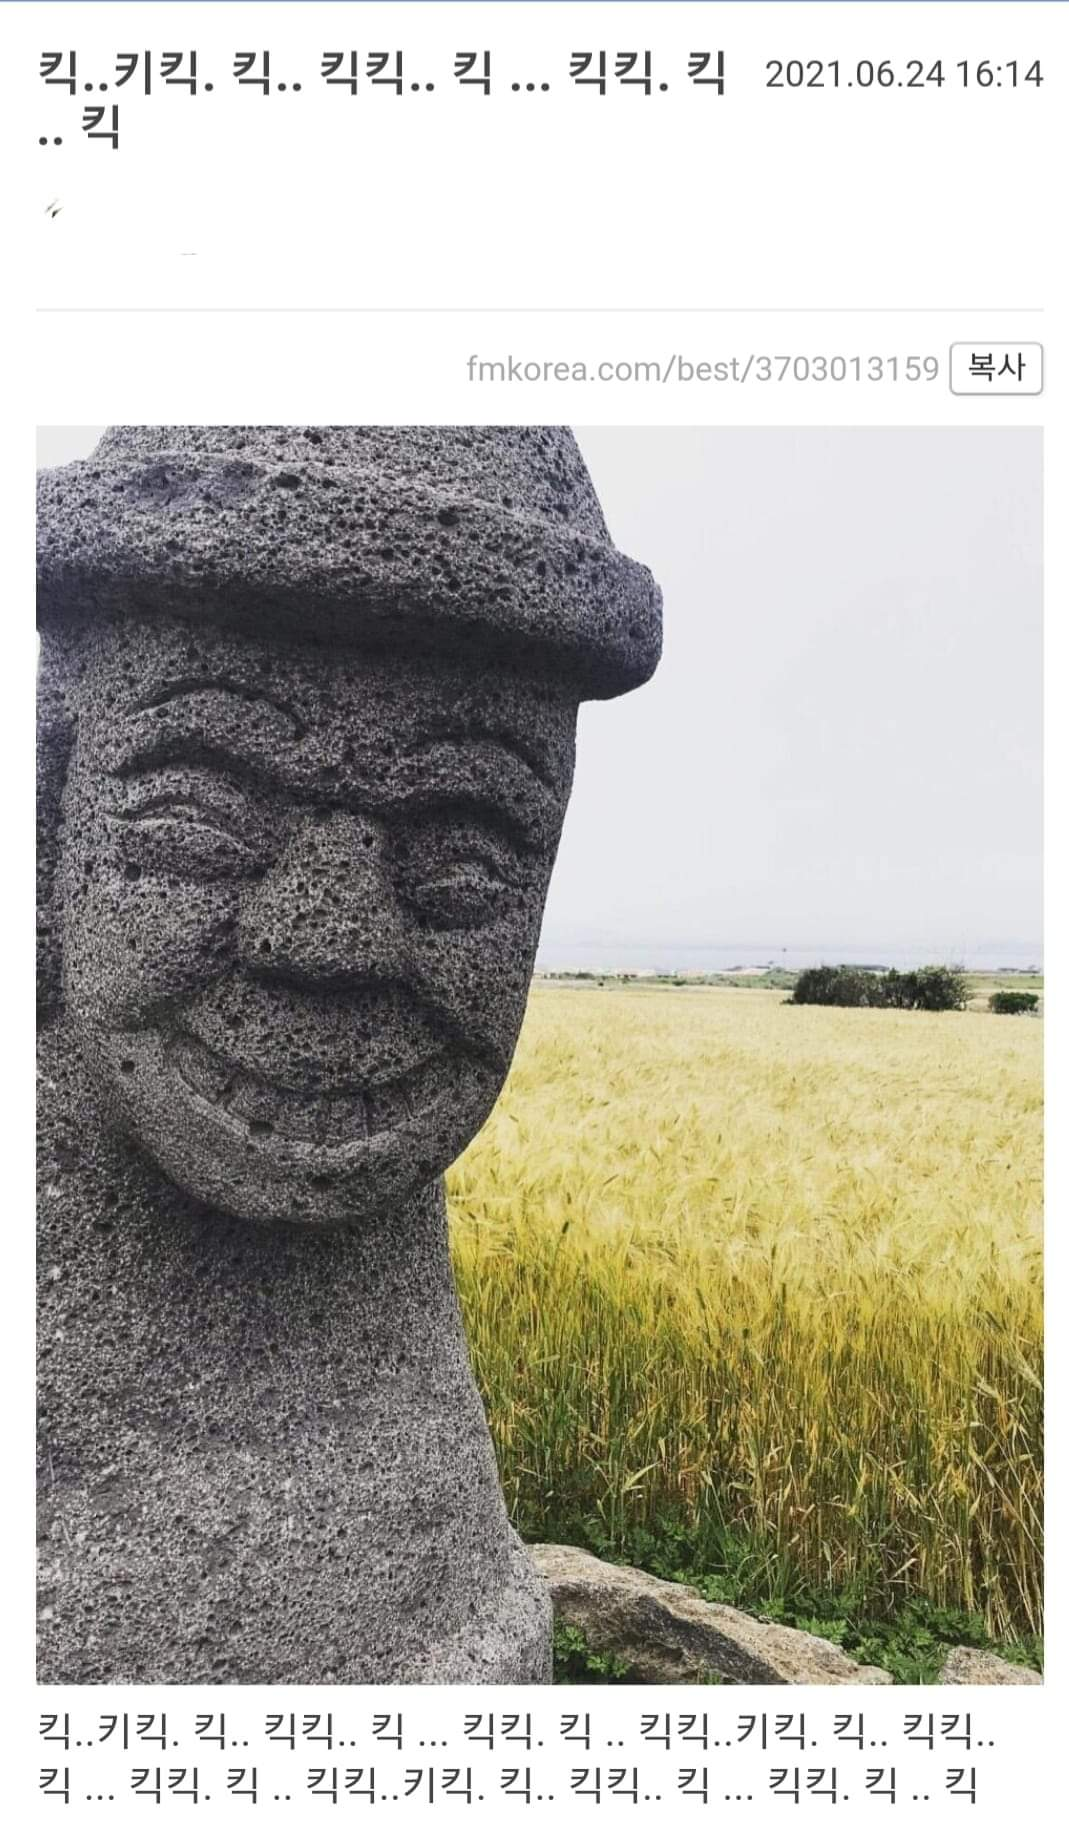Stone Statue: (0, 407, 683, 1688)
